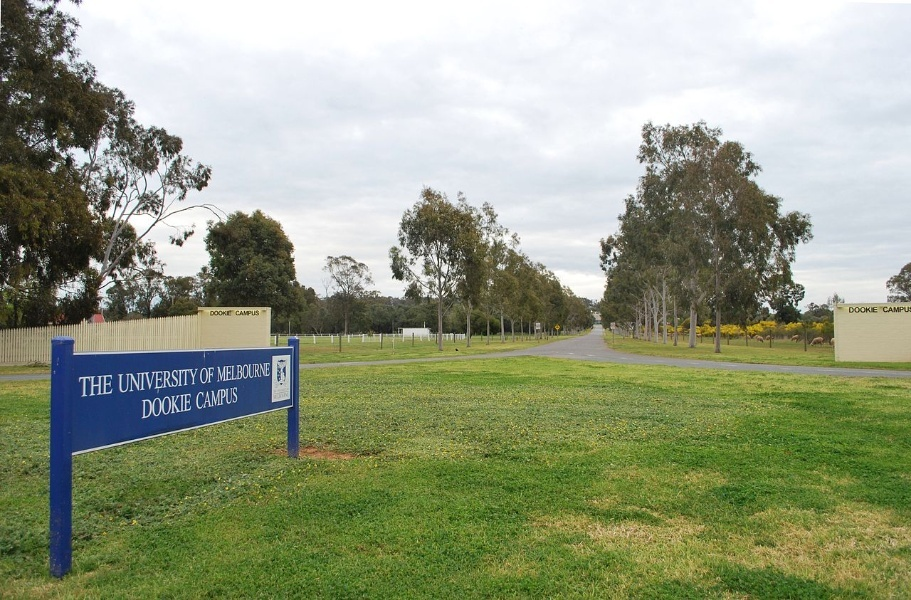text: (177, 393, 193, 420), (145, 393, 160, 420), (161, 393, 176, 420), (129, 368, 144, 394), (145, 368, 160, 394), (161, 368, 176, 394), (177, 368, 192, 394), (209, 386, 224, 411), (225, 386, 239, 411), (81, 375, 96, 398), (97, 375, 112, 398), (225, 362, 240, 383), (241, 362, 256, 383), (257, 362, 271, 383), (197, 386, 208, 411), (118, 368, 128, 394), (200, 366, 208, 386), (217, 362, 224, 383), (193, 368, 198, 394), (882, 305, 896, 314), (897, 305, 911, 314), (209, 366, 215, 386), (849, 307, 864, 314), (241, 310, 256, 317), (865, 307, 879, 314), (210, 310, 224, 317), (141, 393, 144, 420), (225, 310, 233, 317), (78, 375, 80, 398), (235, 310, 240, 317), (113, 375, 114, 398), (257, 310, 260, 317)
